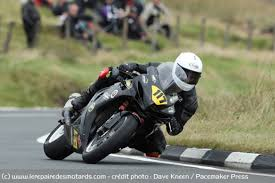moto: (53, 72, 170, 161)
person: (156, 54, 207, 138)
